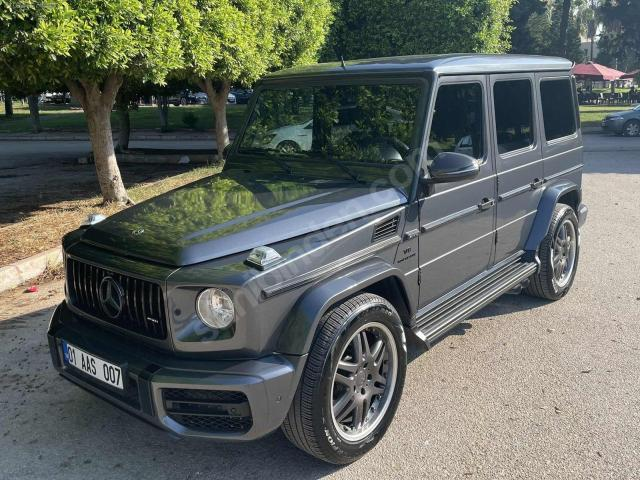plaka: (64, 345, 124, 389)
